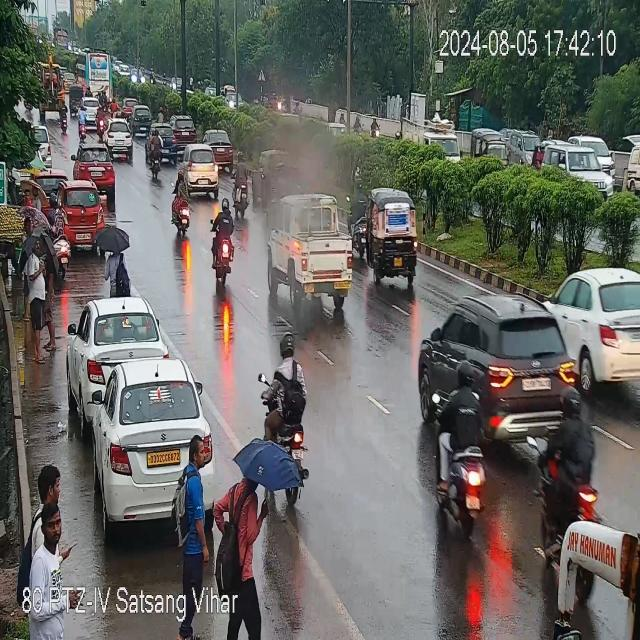2-wheelers: (430, 364, 498, 528), (542, 380, 596, 534), (260, 328, 306, 498), (212, 198, 236, 285), (233, 143, 250, 225), (351, 176, 367, 253), (170, 186, 193, 238), (144, 132, 164, 178), (76, 110, 98, 140), (99, 91, 117, 112), (60, 102, 69, 134), (372, 114, 381, 136)
auto: (361, 192, 418, 279), (472, 126, 506, 168), (68, 79, 84, 114)
bus: (552, 515, 638, 640), (79, 53, 111, 89)
car: (410, 293, 593, 427), (92, 364, 210, 503), (550, 261, 639, 381), (70, 296, 163, 398), (548, 140, 608, 194), (56, 178, 102, 247), (176, 147, 222, 199), (74, 141, 115, 193), (252, 150, 294, 197), (202, 130, 236, 167), (104, 120, 134, 159), (108, 122, 134, 156), (172, 116, 200, 144), (130, 106, 154, 132), (202, 130, 236, 147), (161, 125, 174, 158), (122, 98, 141, 119), (84, 96, 97, 120)
pedestrian: (222, 473, 259, 629), (177, 429, 210, 592), (28, 458, 74, 568), (25, 235, 46, 370), (100, 231, 132, 296), (44, 234, 60, 352), (21, 186, 38, 233)
truck: (262, 195, 355, 314), (38, 57, 61, 121)
